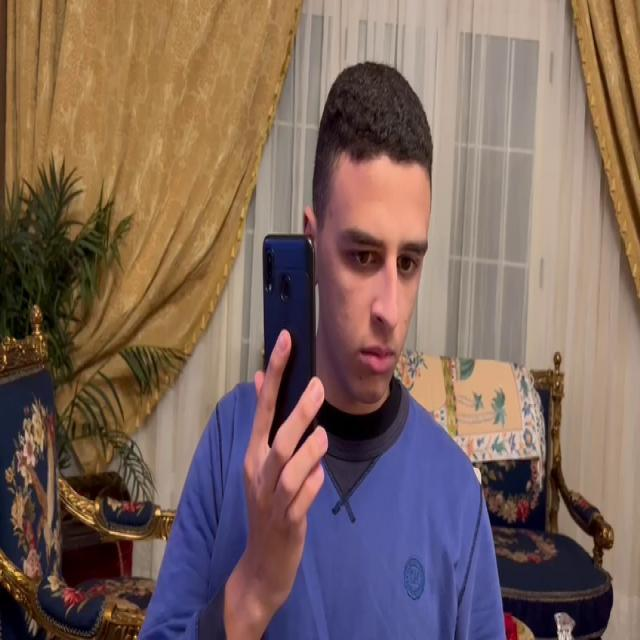phone: (260, 229, 318, 422)
